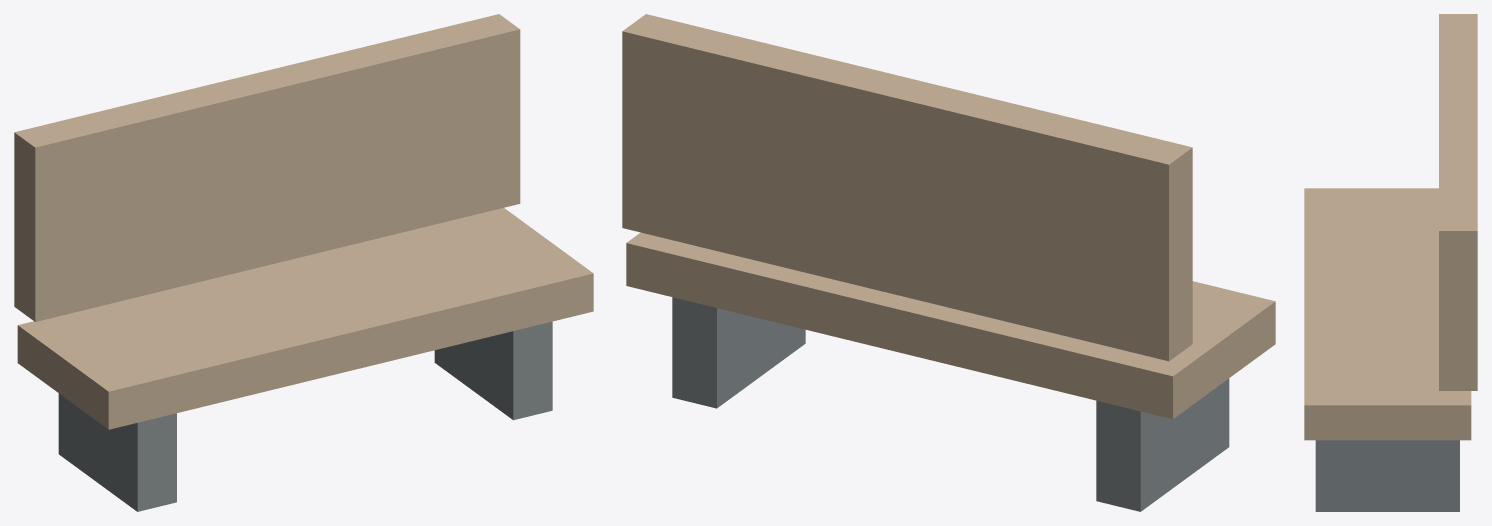
Rendered from bench.glb.
3 renders of one model, left to right at view 1: azimuth 30°, elevation 25°; view 2: azimuth 150°, elevation 25°; view 3: azimuth 270°, elevation 25°, orthographic. The views are drawn at different scales.
Bounding box in the file's own units: 1.6 × 1.02 × 0.54.
